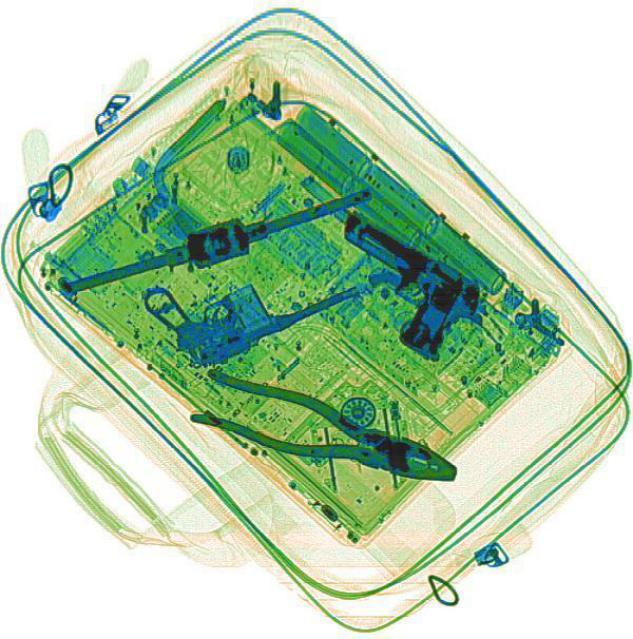Gun: (138, 216, 365, 377), (299, 205, 500, 372)
Pliers: (185, 361, 466, 501)
